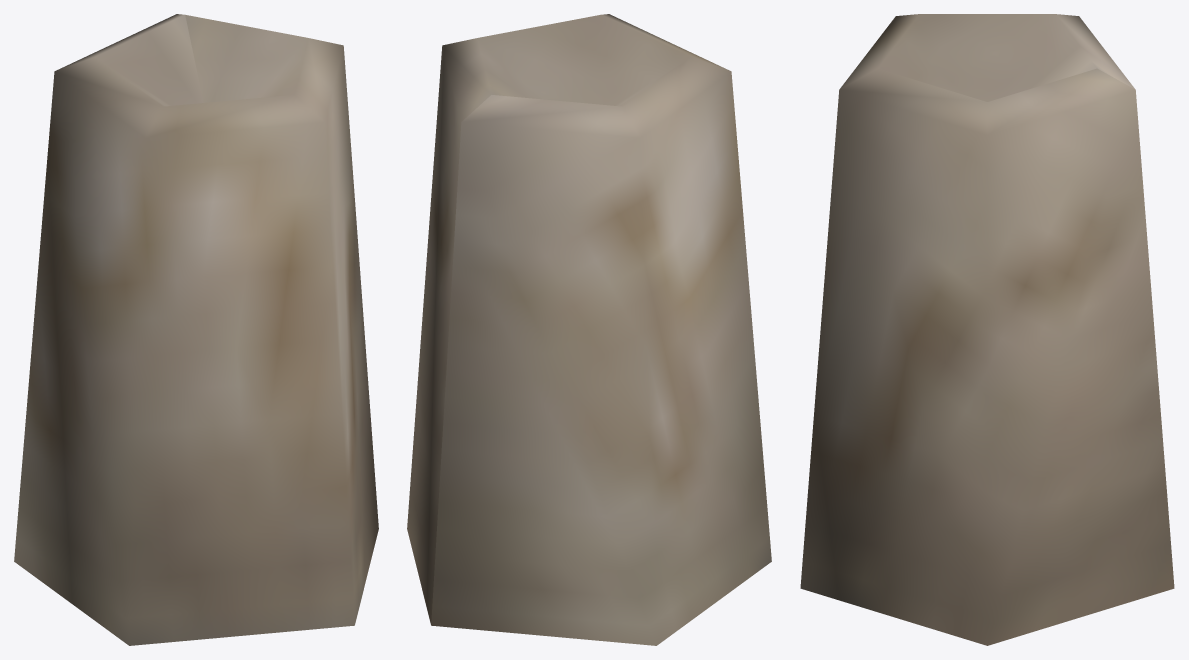
The model's file is candle_1.FBX.
3 views of the same model, side by side, from view 1: azimuth 30°, elevation 25°; view 2: azimuth 150°, elevation 25°; view 3: azimuth 270°, elevation 25° (orthographic).
Parts seen in each view (by area): view 1: Object126; view 2: Object126; view 3: Object126.
Part boxes in pixels (x1,y1,x2,y2): Object126: (14,14,378,645); Object126: (407,14,771,645); Object126: (800,14,1174,645).
Size of the model in its own units: 0.0566 by 0.0894 by 0.0595.
